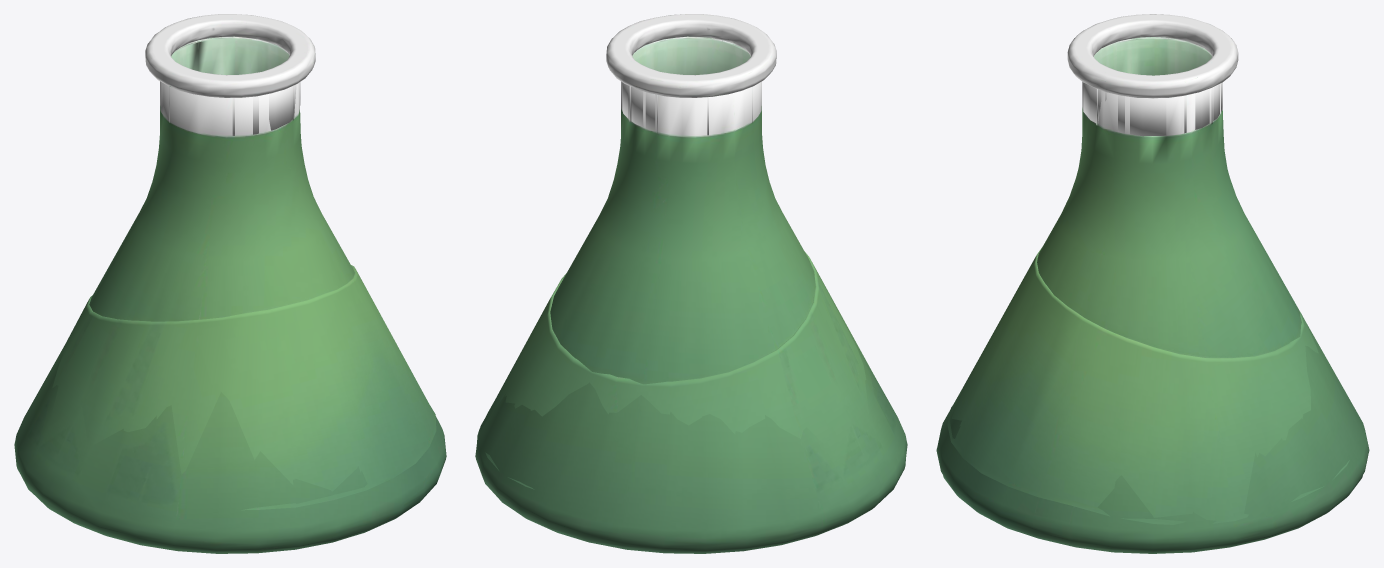
The model's file is triangle_flask_1778157689.glb.
The picture shows the model from 3 angles, left to right: view 1: azimuth 30°, elevation 25°; view 2: azimuth 150°, elevation 25°; view 3: azimuth 270°, elevation 25°; orthographic projection.
Visible parts, largest first — view 1: tripo_node_077e2bce-cb40-484e-b064-4e2b1814c24f; view 2: tripo_node_077e2bce-cb40-484e-b064-4e2b1814c24f; view 3: tripo_node_077e2bce-cb40-484e-b064-4e2b1814c24f.
Part boxes in pixels (left/top/right/bottom): tripo_node_077e2bce-cb40-484e-b064-4e2b1814c24f: left=14, top=14, right=446, bottom=553; tripo_node_077e2bce-cb40-484e-b064-4e2b1814c24f: left=475, top=14, right=907, bottom=553; tripo_node_077e2bce-cb40-484e-b064-4e2b1814c24f: left=936, top=14, right=1369, bottom=553.
Size of the model in its own units: 0.9277 by 0.998 by 0.9277.
1 material, 1 textured.
